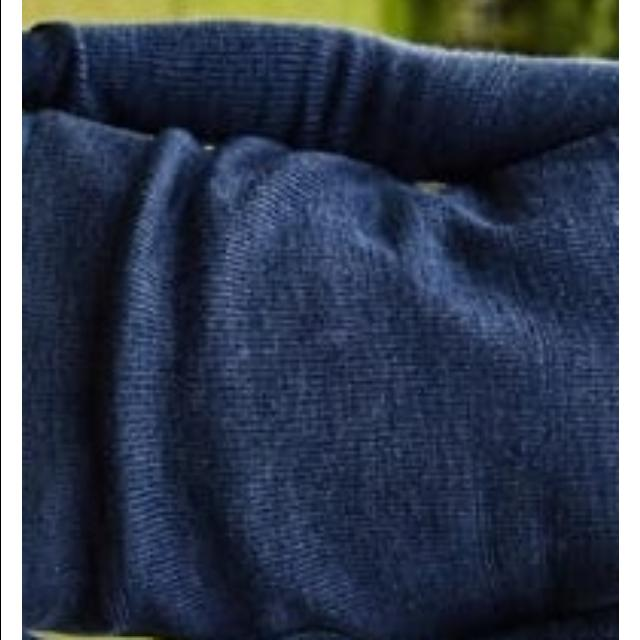wool: (21, 0, 618, 640)
